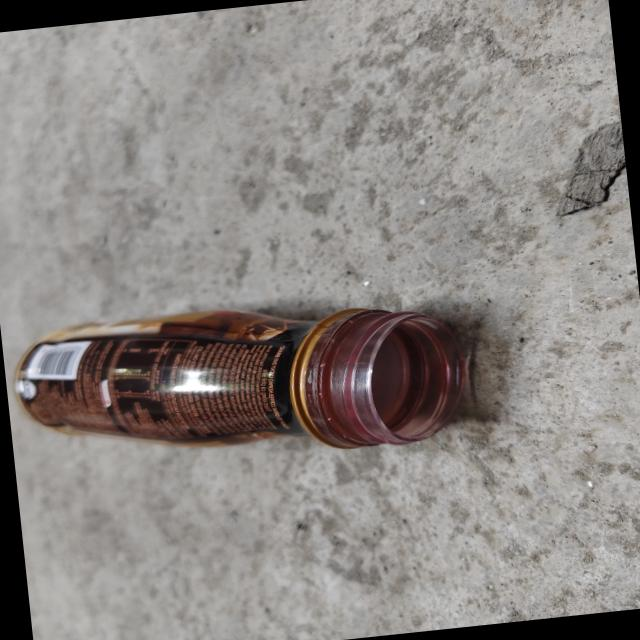Bottle: (10, 307, 464, 449)
